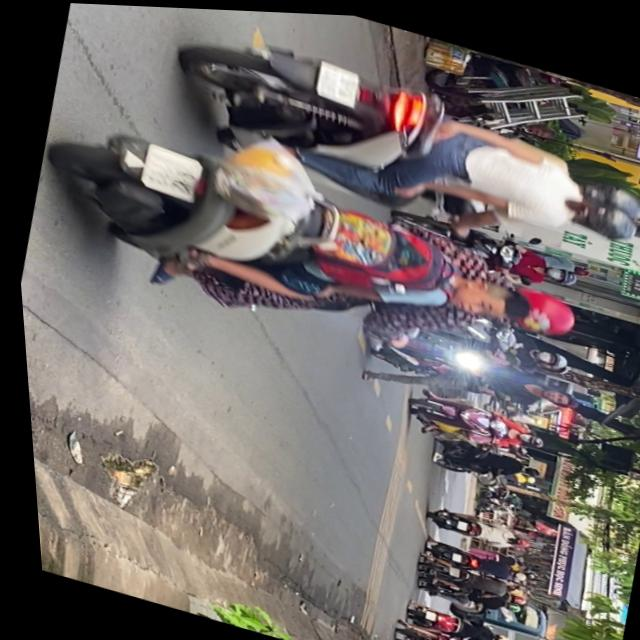helmet: (501, 275, 579, 337), (564, 188, 640, 240), (570, 169, 640, 215), (539, 257, 577, 282)
licenseplate: (22, 79, 609, 406), (153, 8, 640, 275)
motorcyclist: (436, 262, 536, 328)
nohelmet: (135, 140, 204, 200), (313, 57, 363, 104)
